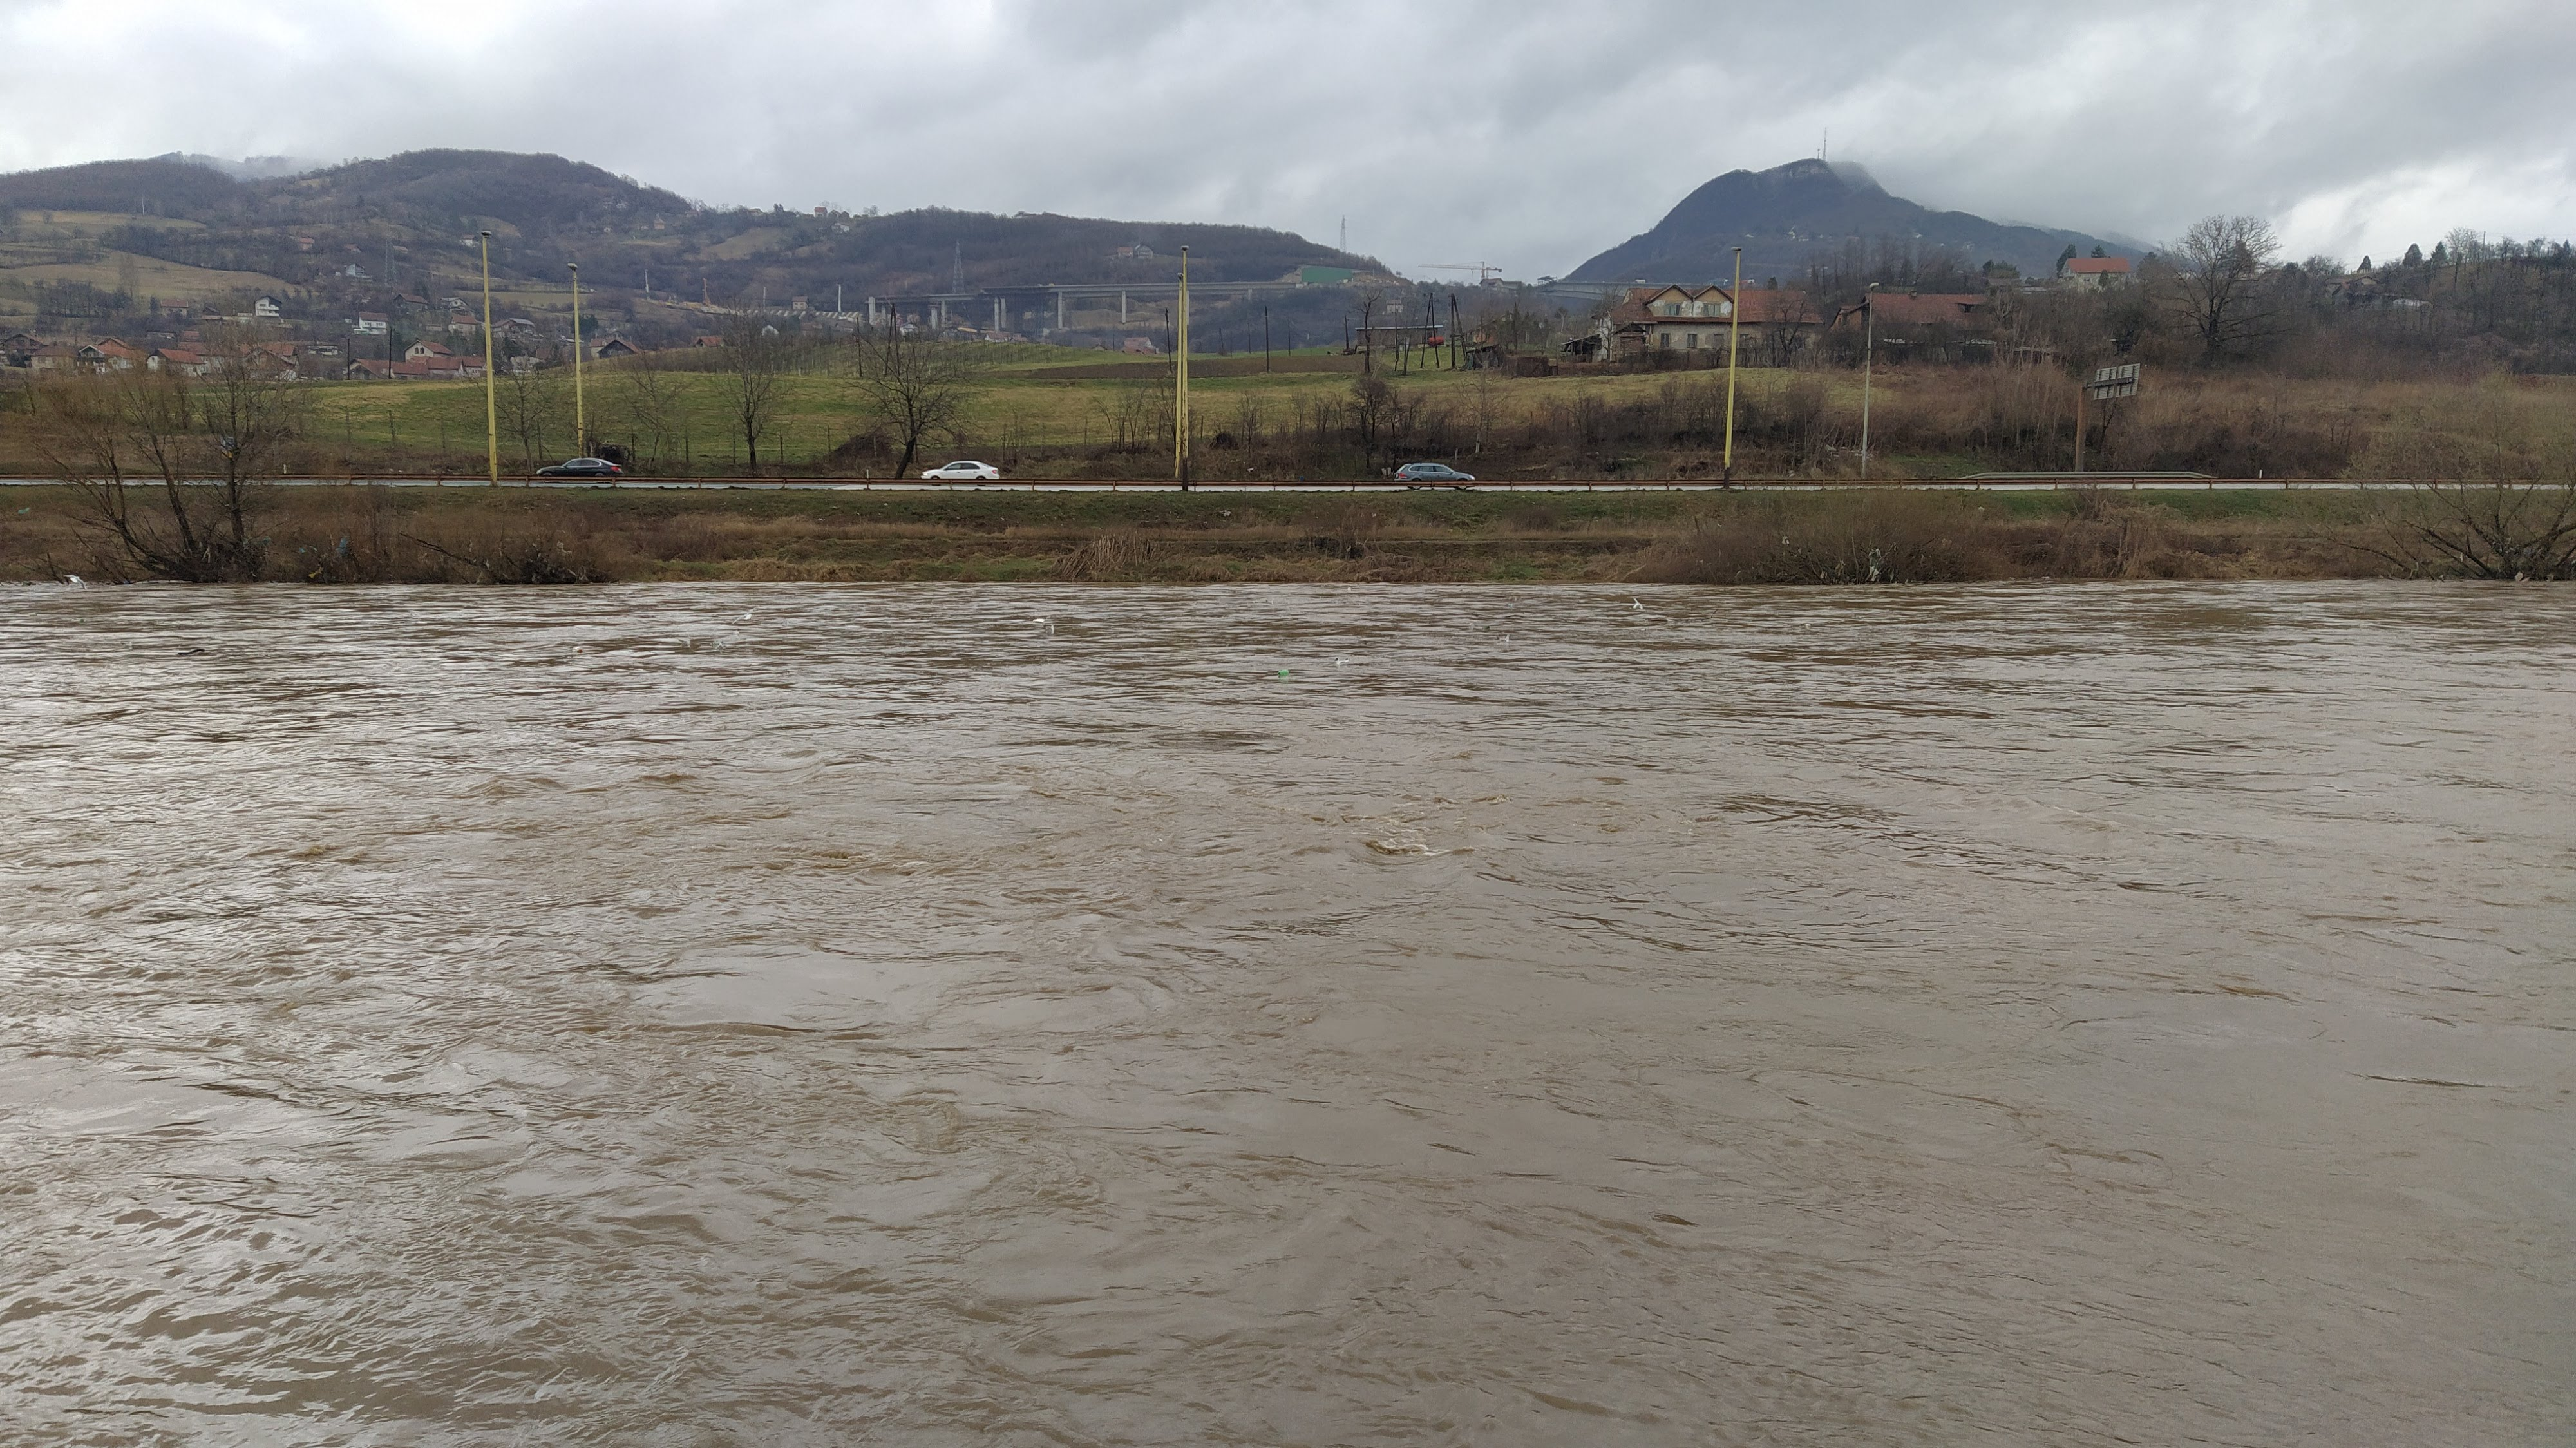Plastic Bottle: (573, 646, 582, 653), (1279, 669, 1288, 674), (1033, 618, 1044, 621), (1470, 623, 1476, 628), (80, 618, 83, 621)
